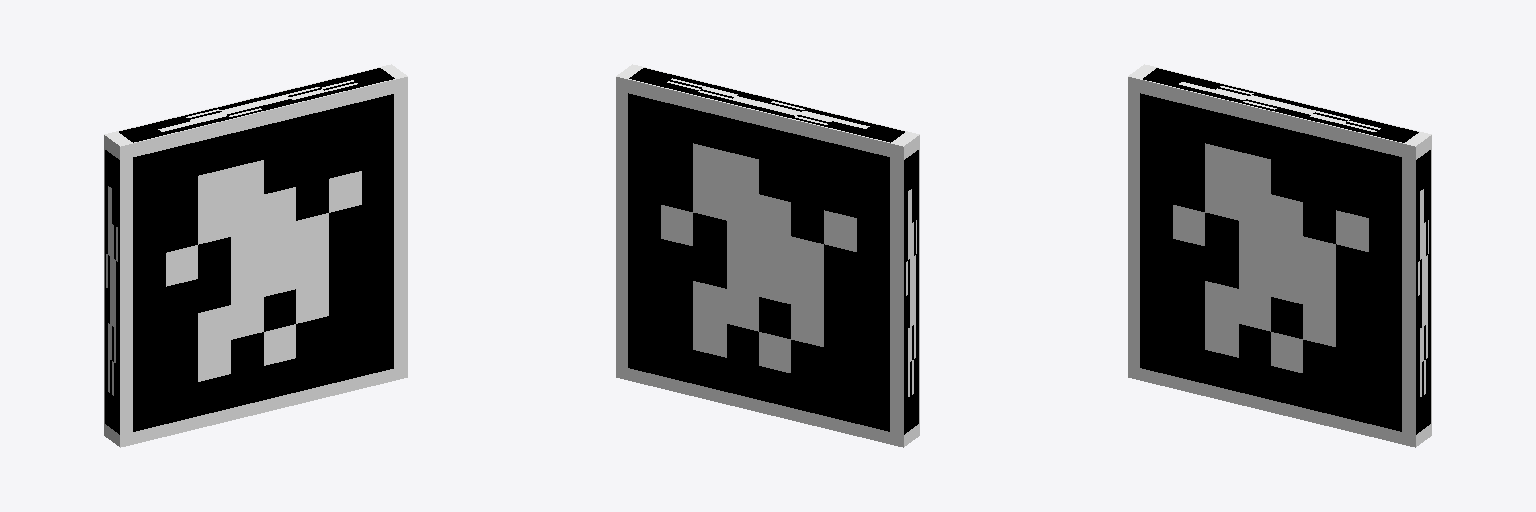
3 renders of one model, left to right at view 1: azimuth 30°, elevation 25°; view 2: azimuth 150°, elevation 25°; view 3: azimuth 330°, elevation 25°, orthographic.
Visible parts, largest first — view 1: Cube; view 2: Cube; view 3: Cube.
Boxes of the visible parts, <box> form: Cube: <box>104,64,407,447</box>; Cube: <box>616,64,919,447</box>; Cube: <box>1128,64,1431,447</box>.
Size of the model in its own units: 2 by 2 by 0.2.
1 materials, 1 textured.